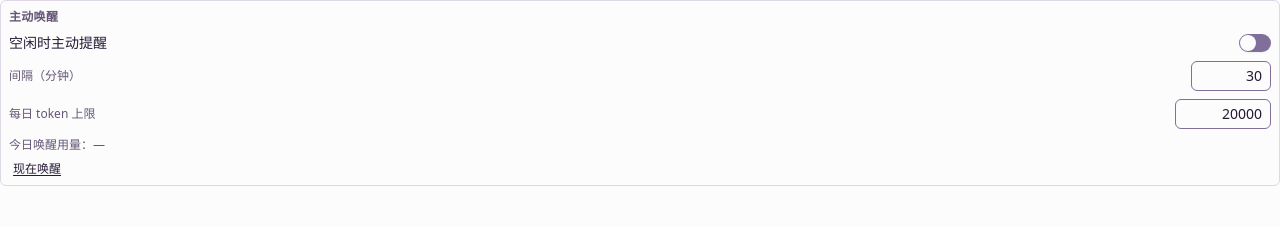
WakeSettings › ③ 现在唤醒 is a real button: a notice is announced to the chat, a cap skip shows its message, usage updates
This screenshot has width=1280, height=227.
Click the button "现在唤醒": (37, 169) 9,161 -> 65,177
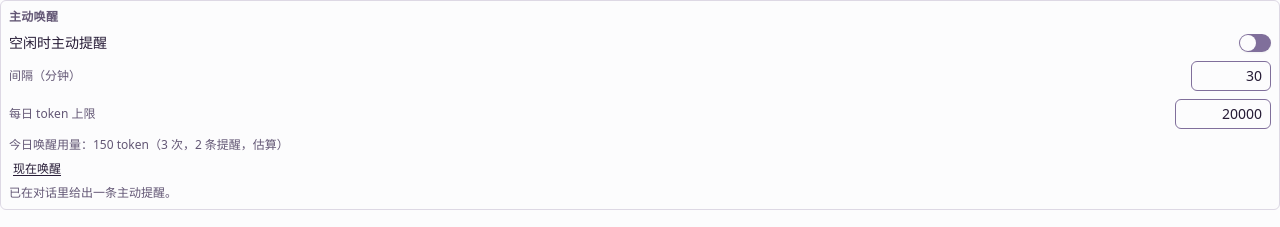
Result: the message reads "已在对话里给出一条主动提醒。" at 9,184 -> 177,201
Result: the text "今日唤醒用量：150 token（3 次，2 条提醒，估算）" is shown at 9,136 -> 289,153
Click the button "现在唤醒": (37, 169) 9,161 -> 65,177
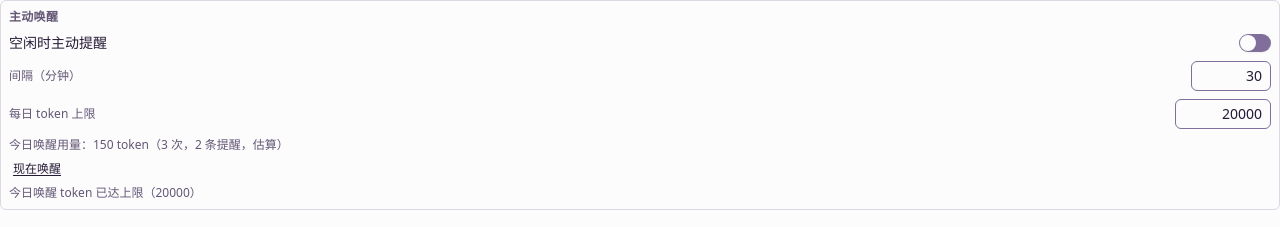
Result: the message shows "已达上限" at 9,184 -> 202,201
